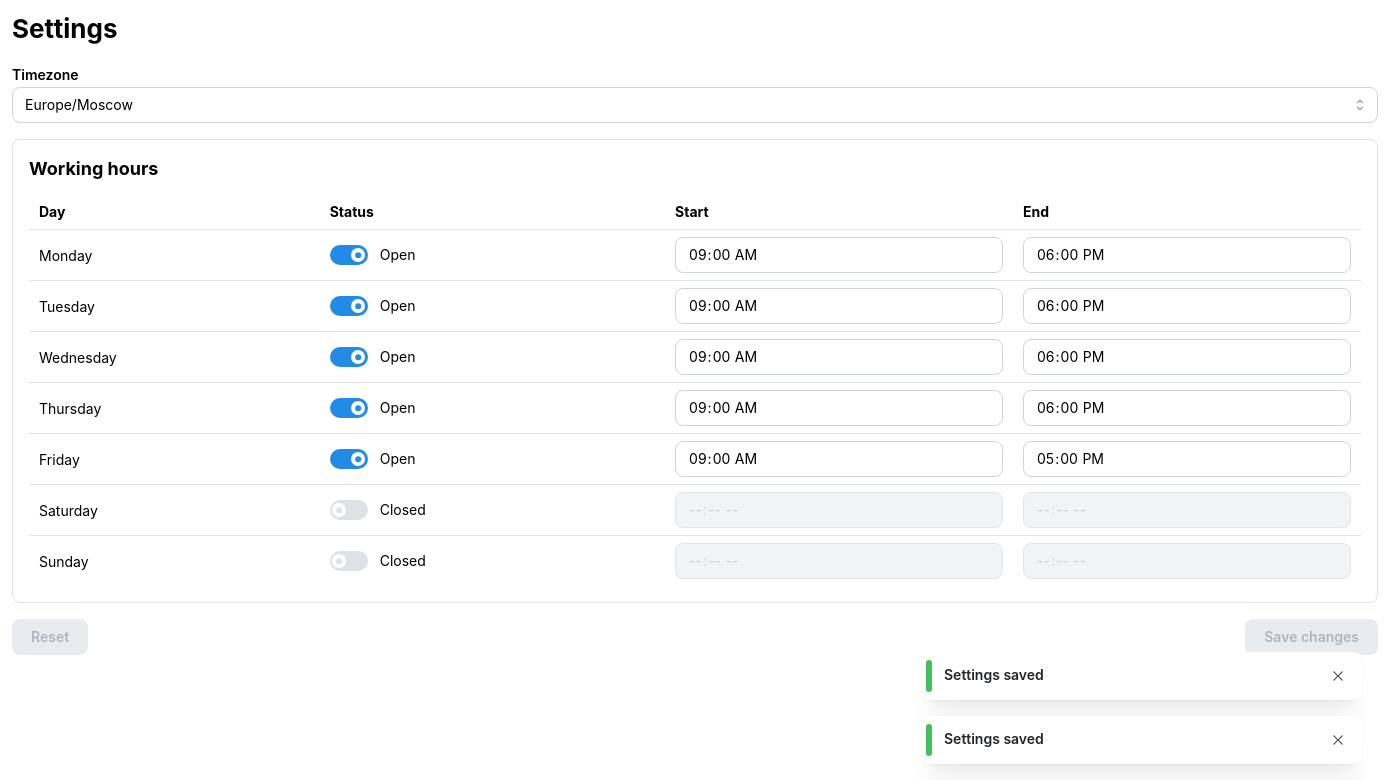
Scenario: SettingsPage › shows the 400 error message in a top-level alert
Expected: the dropdown labelled "Timezone" holds "Europe/Moscow", [12, 87, 1378, 123]
Click the switch labelled "Closed" in the row of "Sunday": (378,561) [330, 551, 426, 571]
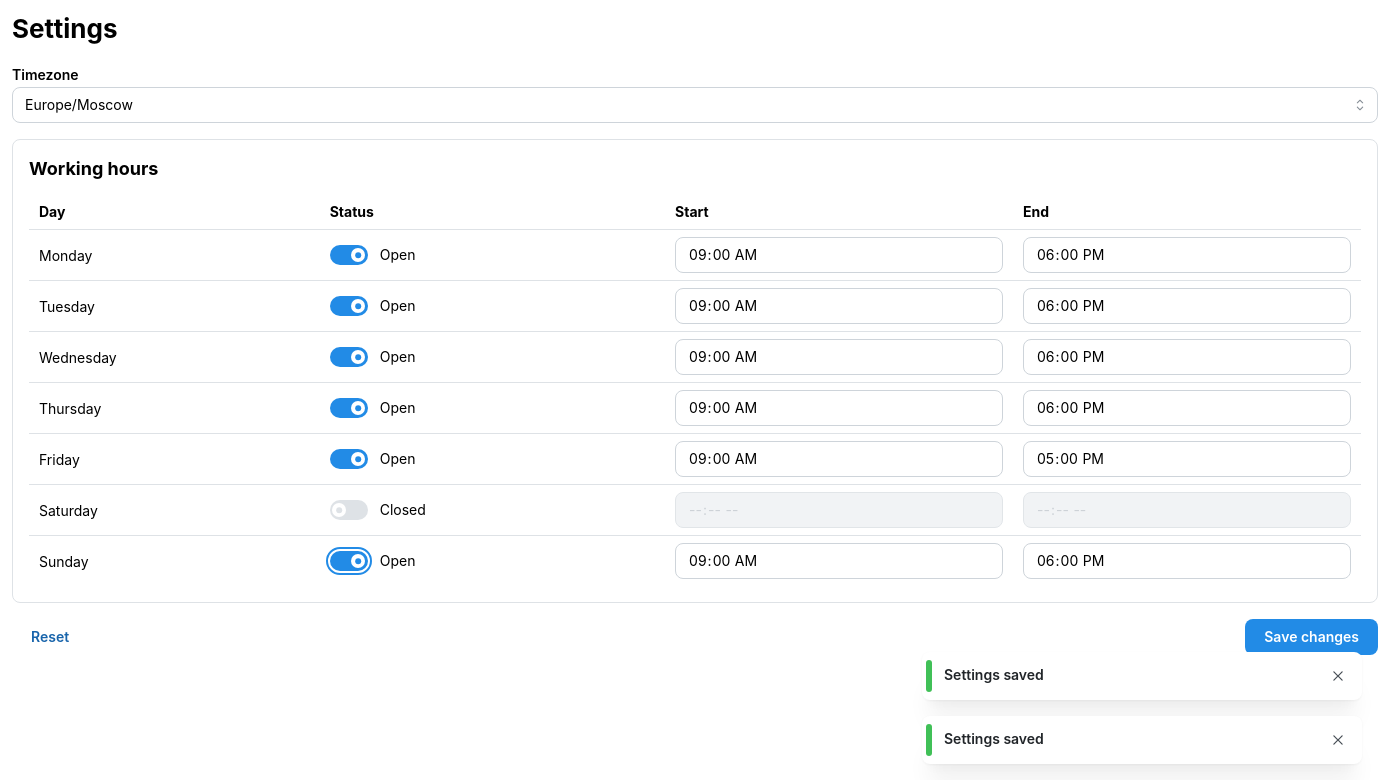
Click the button "Save changes": (1312,637) [1245, 619, 1378, 655]
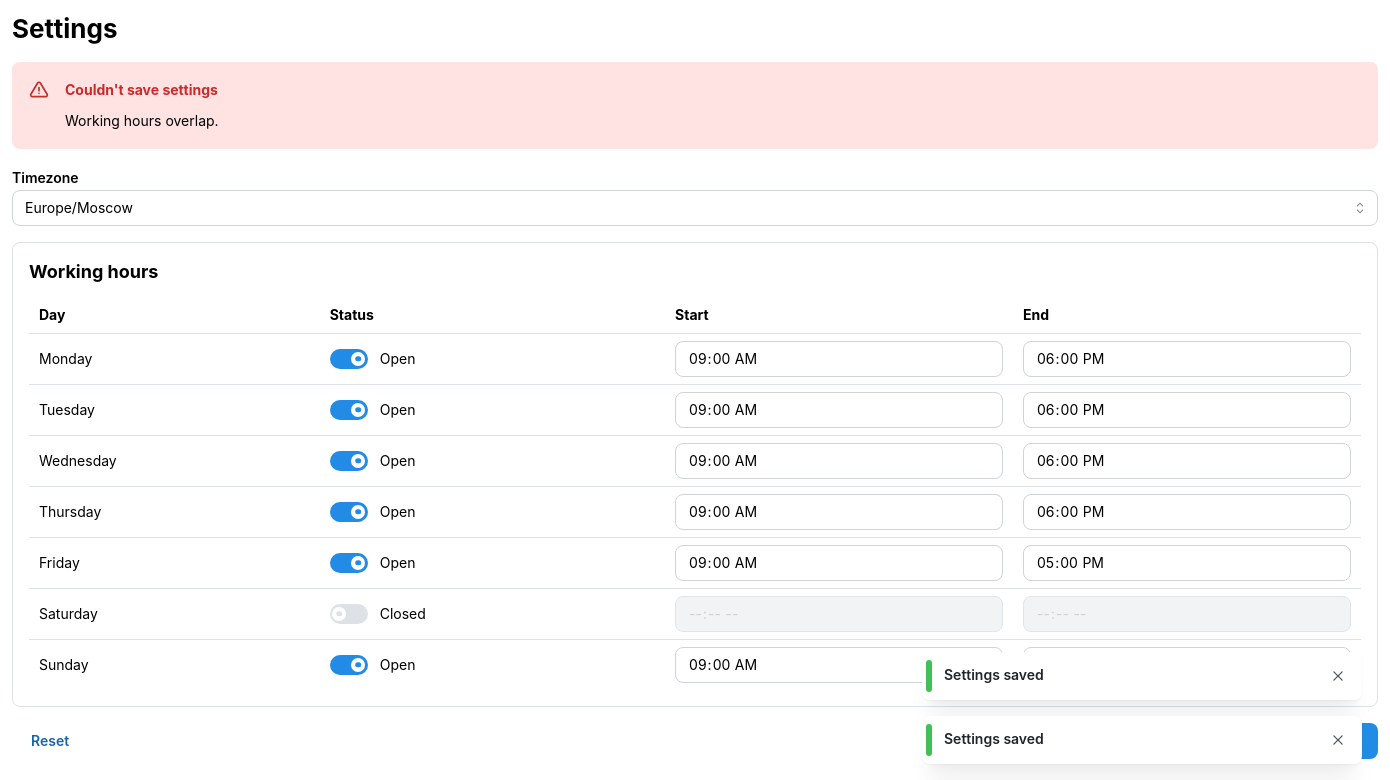
Expected: the text "Working hours overlap." is shown, [65, 112, 219, 130]
